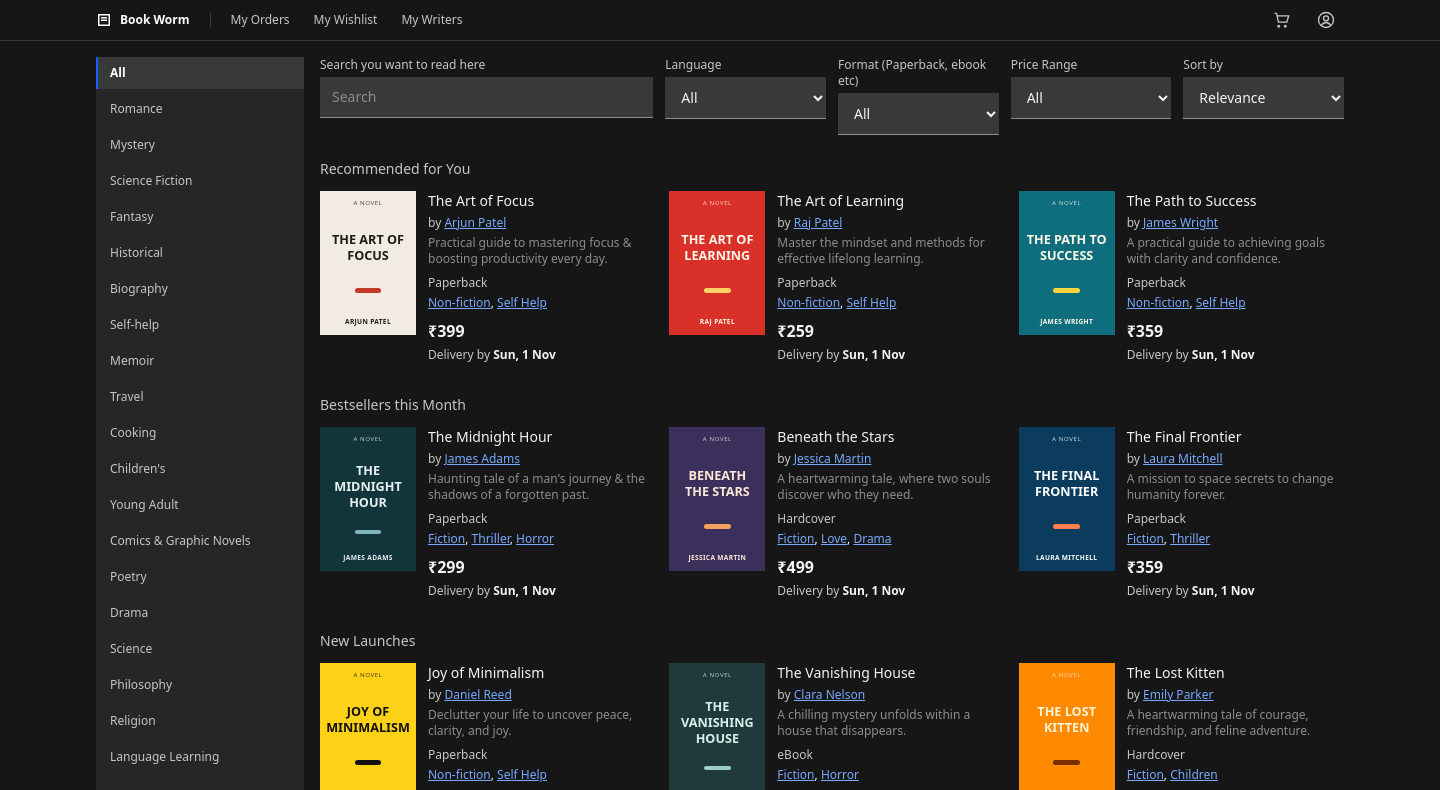
Test: App flows › filters the catalogue by search text
This screenshot has width=1440, height=790.
Expected: the heading "Recommended for You" is shown, 320,159 -> 470,178
Type "kitten" into the search field labelled "Search you want to read here". click: (487, 98)
box: 320,77 -> 653,118
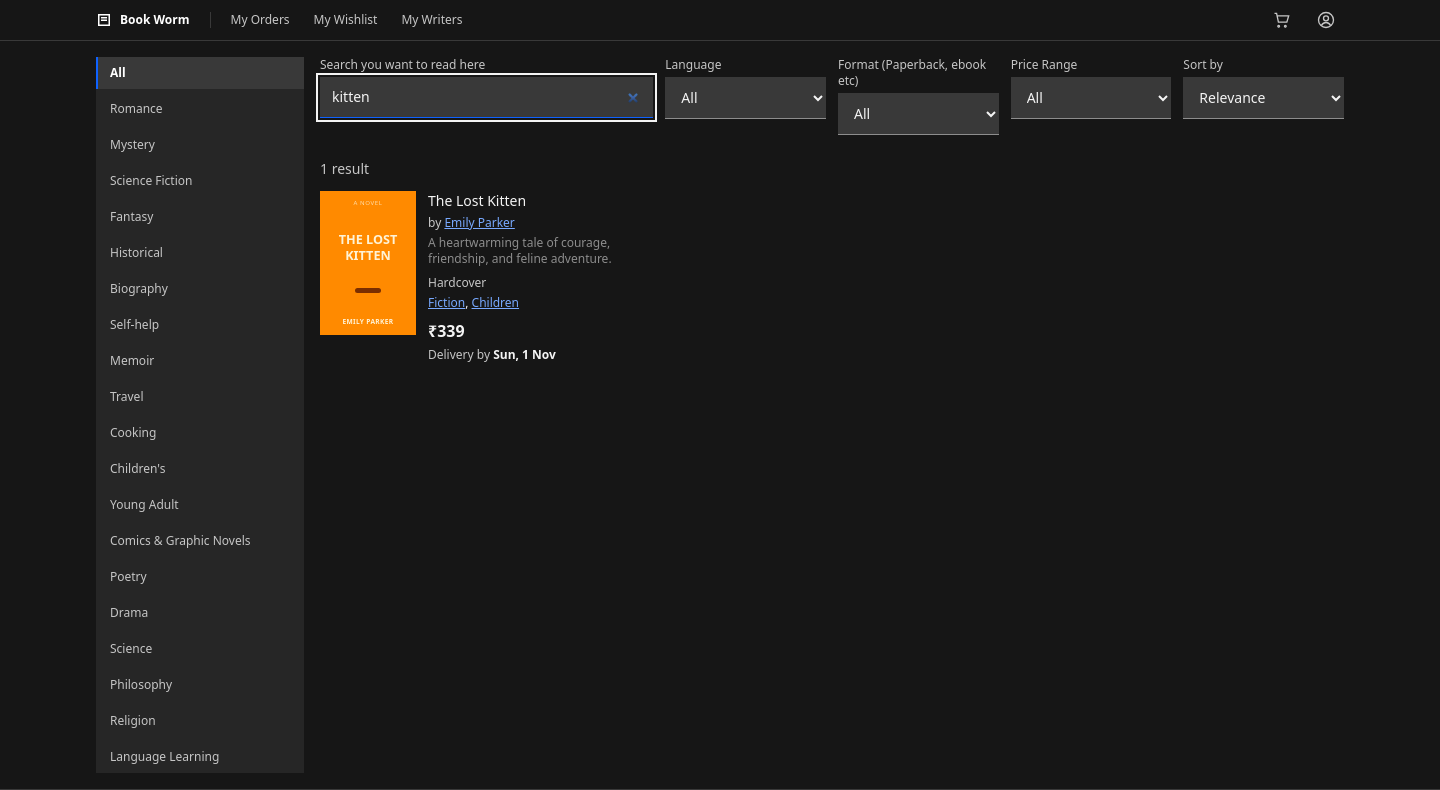
Expected: the link "The Lost Kitten" is shown, 428,191 -> 526,210
Now the heading "1 result" is shown, box 320,159 -> 369,178
